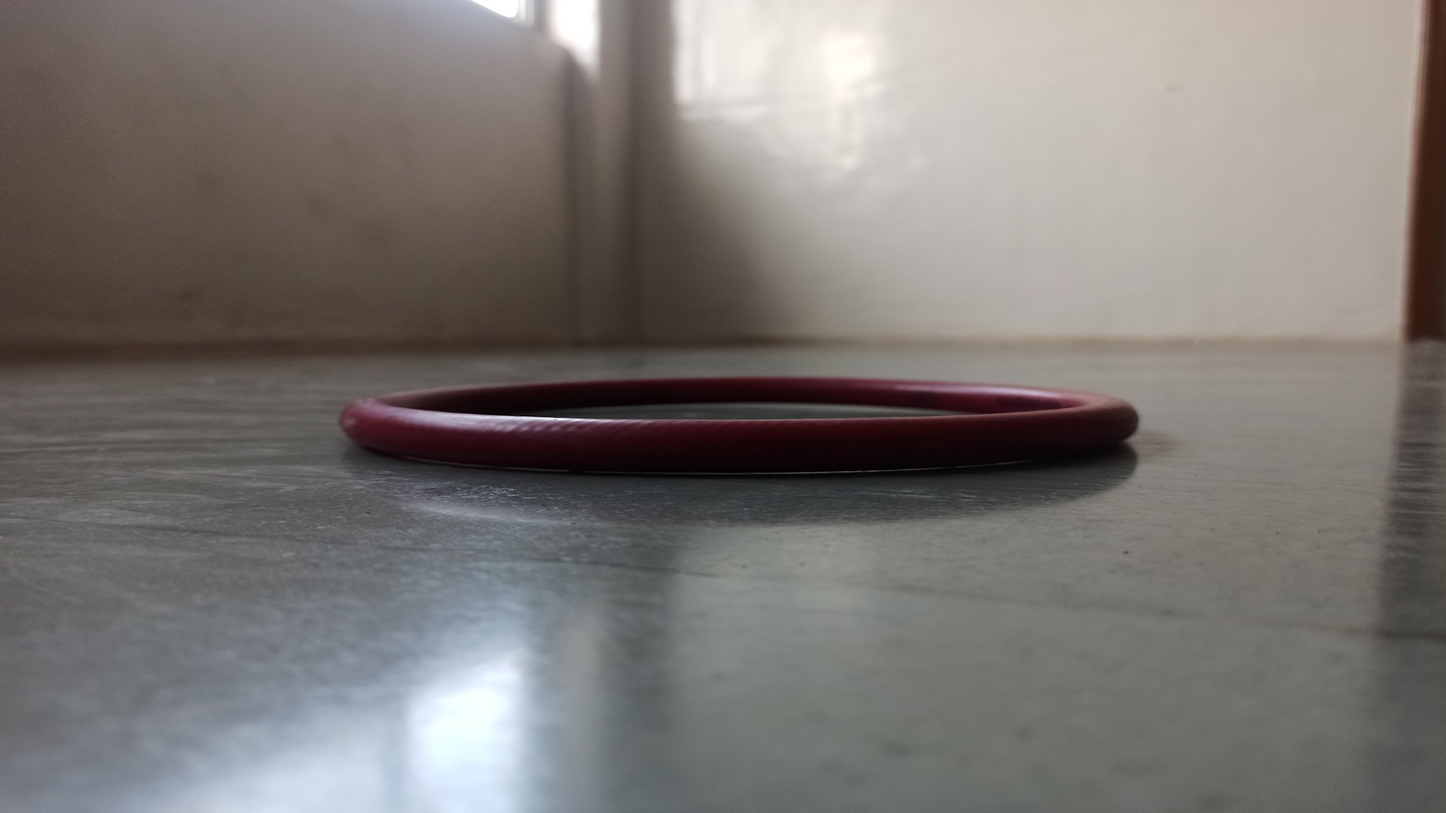Red ring: (340, 372, 1138, 473)
